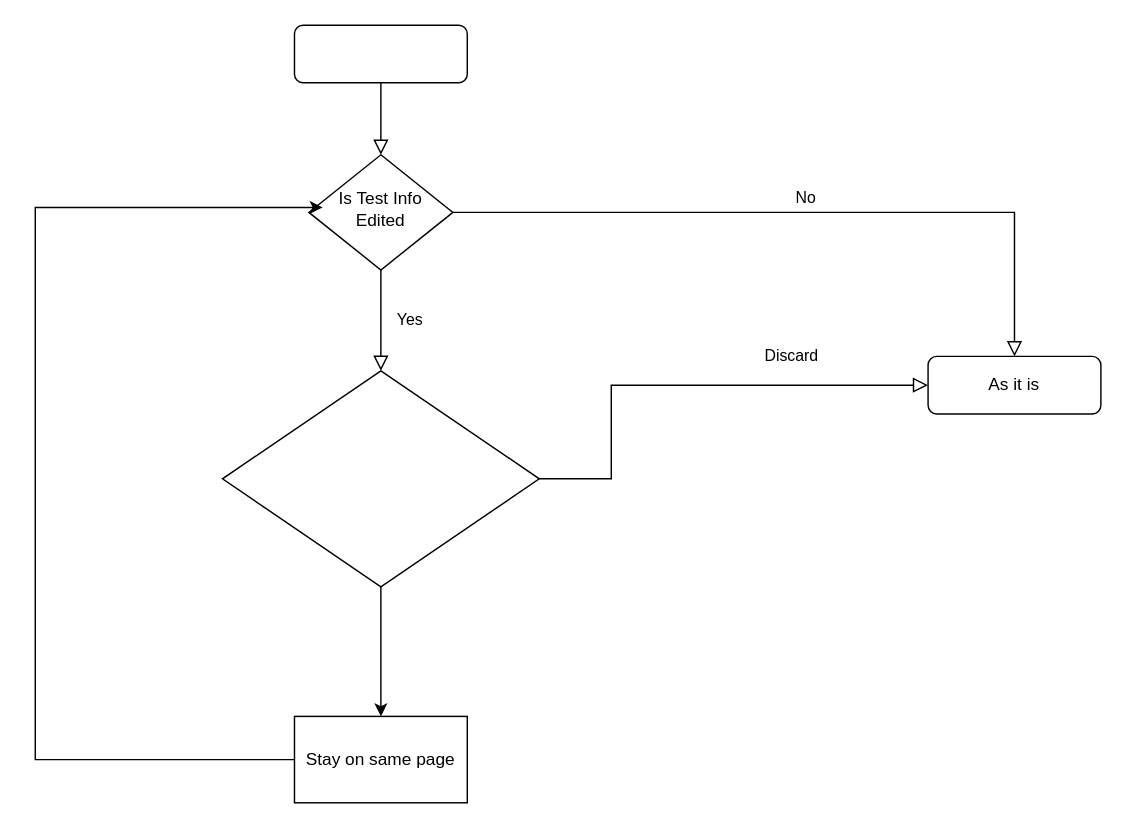
Image size: 1126x828. Some labels were removed from this diagram. Here are the shapes that lost their labels. From the top down, the box of each, then its label:
(293, 24, 467, 83): Test Explorer
(221, 369, 539, 587): Show user to save the changes or discard
